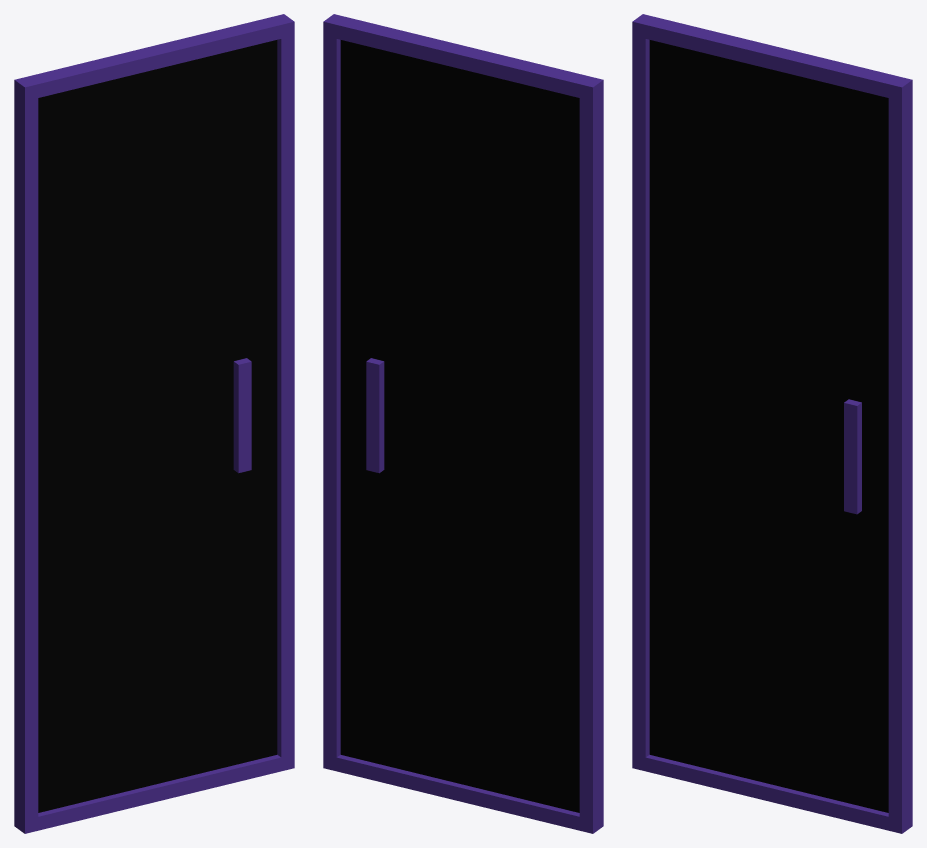
The model's file is glass_door.fbx.
The picture shows the model from 3 angles, left to right: view 1: azimuth 30°, elevation 25°; view 2: azimuth 150°, elevation 25°; view 3: azimuth 330°, elevation 25°; orthographic projection.
Visible parts, largest first — view 1: door_glass, door_frame; view 2: door_glass, door_frame; view 3: door_glass, door_frame.
Boxes of the visible parts, x1,y1,x2,y2 form: door_glass: [38, 40, 277, 812]; door_frame: [14, 14, 294, 833]; door_glass: [340, 40, 579, 812]; door_frame: [323, 14, 603, 833]; door_glass: [649, 40, 888, 812]; door_frame: [632, 14, 912, 833].
Bounding box in the file's own units: 103 × 273 × 8.33.
